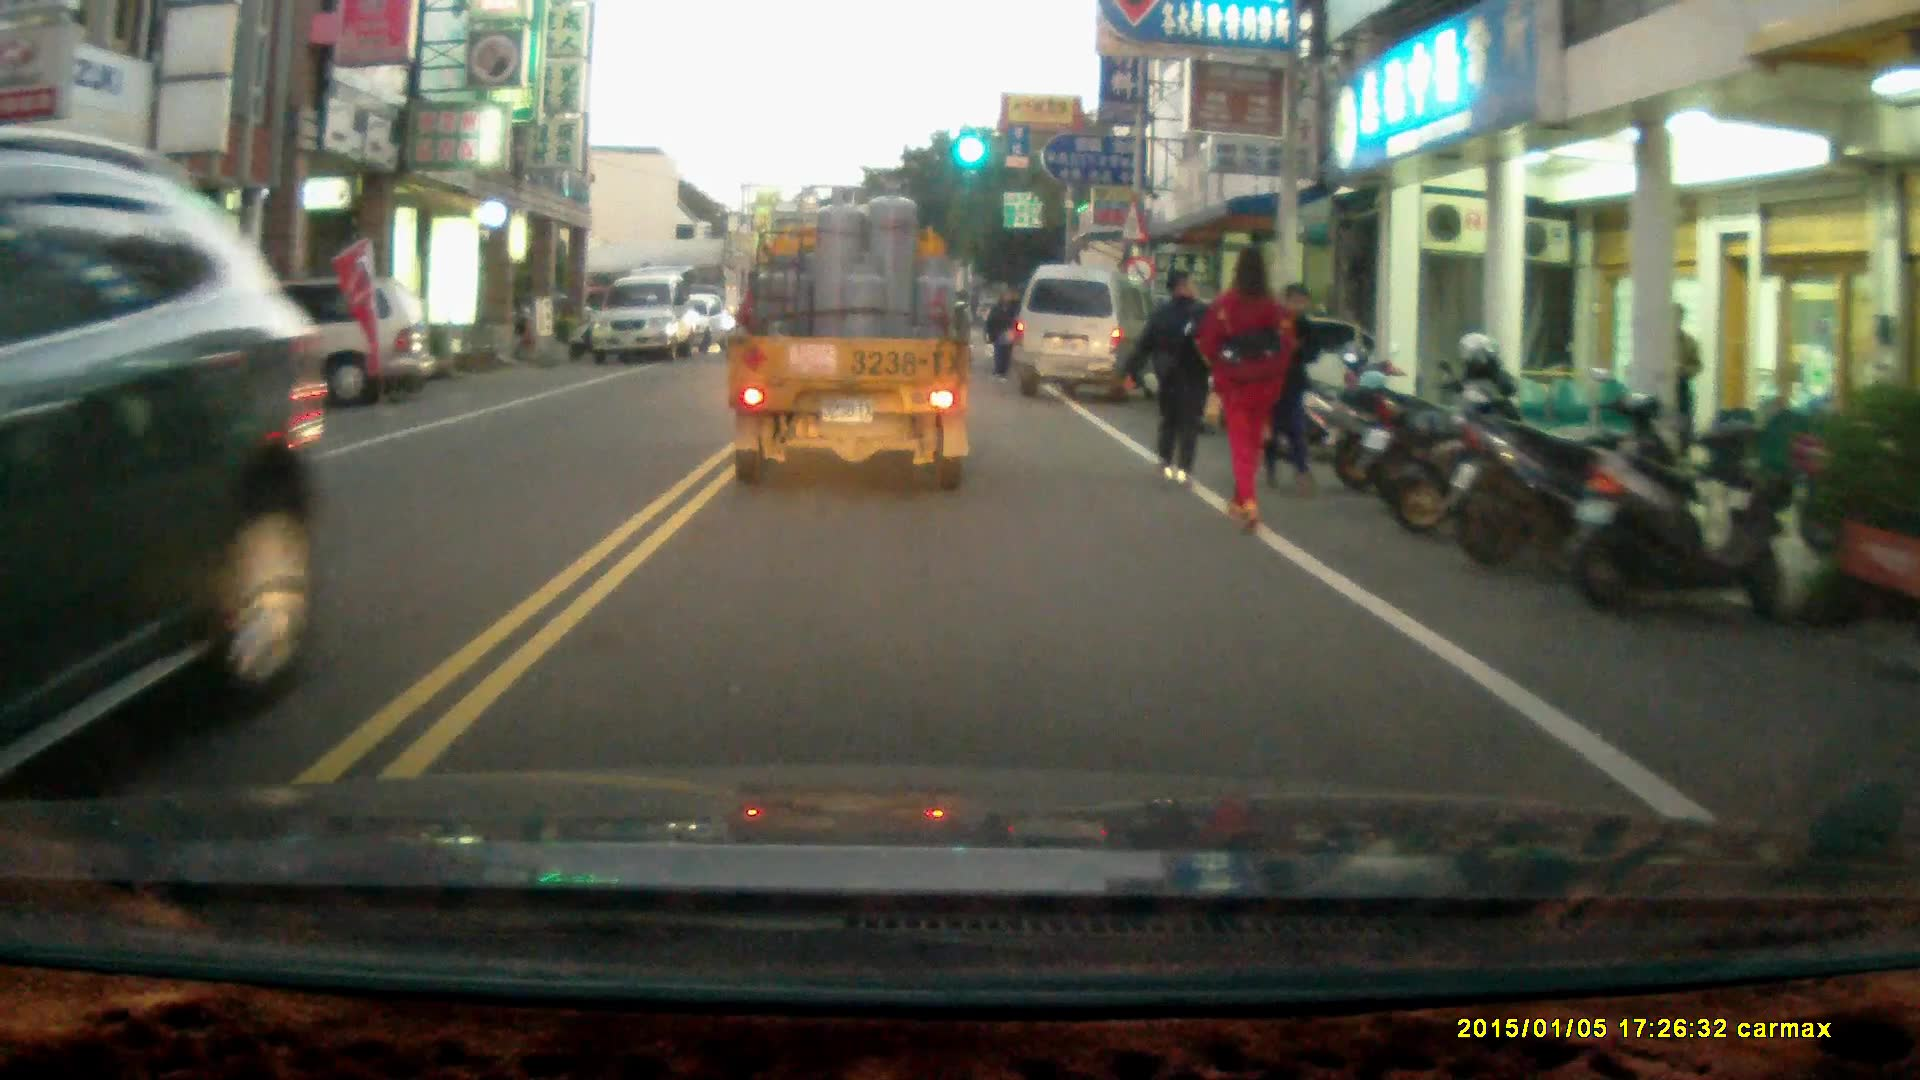pedestrian: (1202, 240, 1292, 540), (1127, 265, 1215, 488), (1263, 277, 1322, 494), (985, 291, 1019, 382)
vehicle: (1, 125, 333, 792), (719, 186, 979, 507), (147, 290, 431, 417), (1017, 262, 1158, 403), (594, 271, 707, 361)
